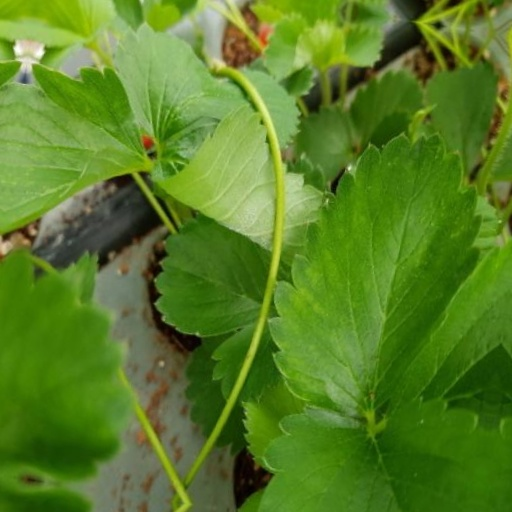Powdery Mildew Leaf: (196, 251, 375, 406)
